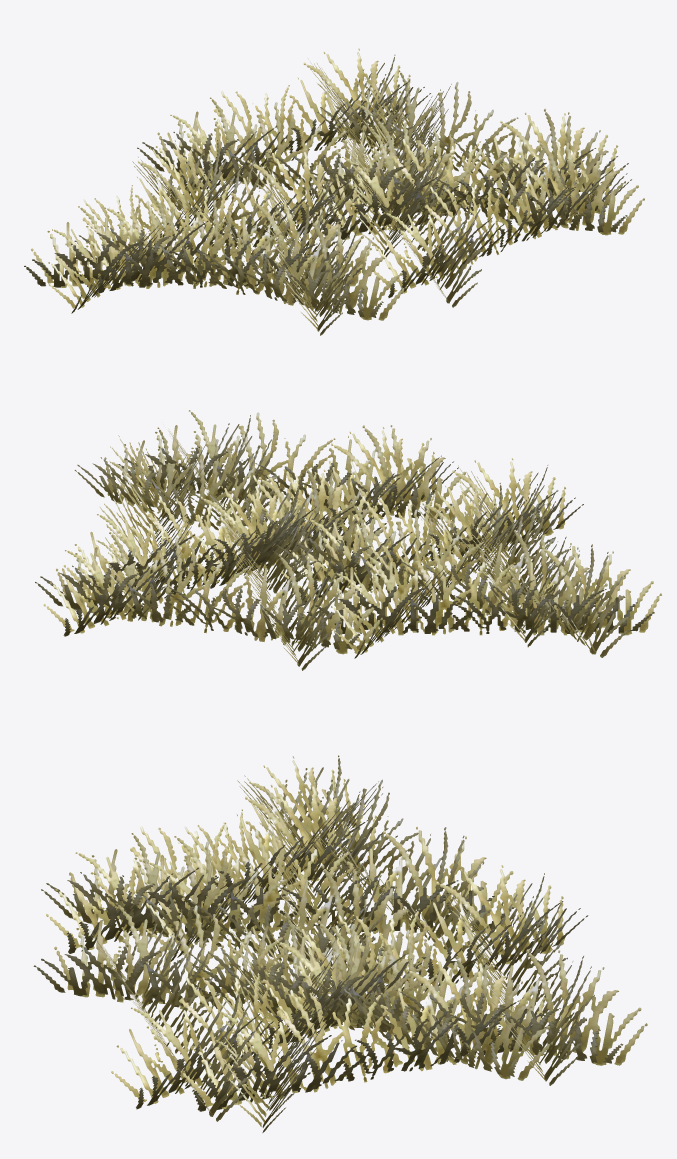
Rendered from grass_la_b.glb.
3 renders of one model, top to bottom at view 1: azimuth 30°, elevation 25°; view 2: azimuth 150°, elevation 25°; view 3: azimuth 270°, elevation 25°, orthographic. The views are drawn at different scales.
Visible parts, largest first — view 1: grass_la_b; view 2: grass_la_b; view 3: grass_la_b.
Boxes of the visible parts, box(x1,y1,x2,y2) form: grass_la_b: box(24, 48, 644, 335); grass_la_b: box(35, 410, 661, 670); grass_la_b: box(33, 755, 647, 1132).
Size of the model in its own units: 15.39 by 2.02 by 12.28.
1 material, 1 textured.
